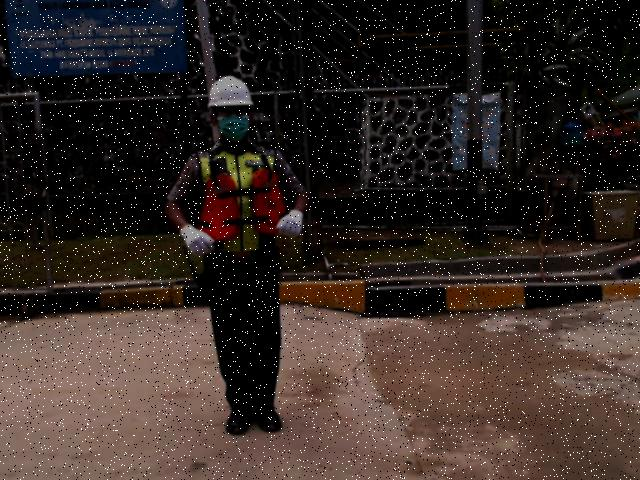glasses: (215, 107, 249, 117)
gloves: (176, 221, 220, 261), (273, 206, 306, 241)
helmet: (207, 73, 254, 108)
mask: (218, 117, 249, 143)
safety-shoes: (253, 408, 287, 435), (224, 408, 254, 437)
vest: (194, 169, 289, 239)
